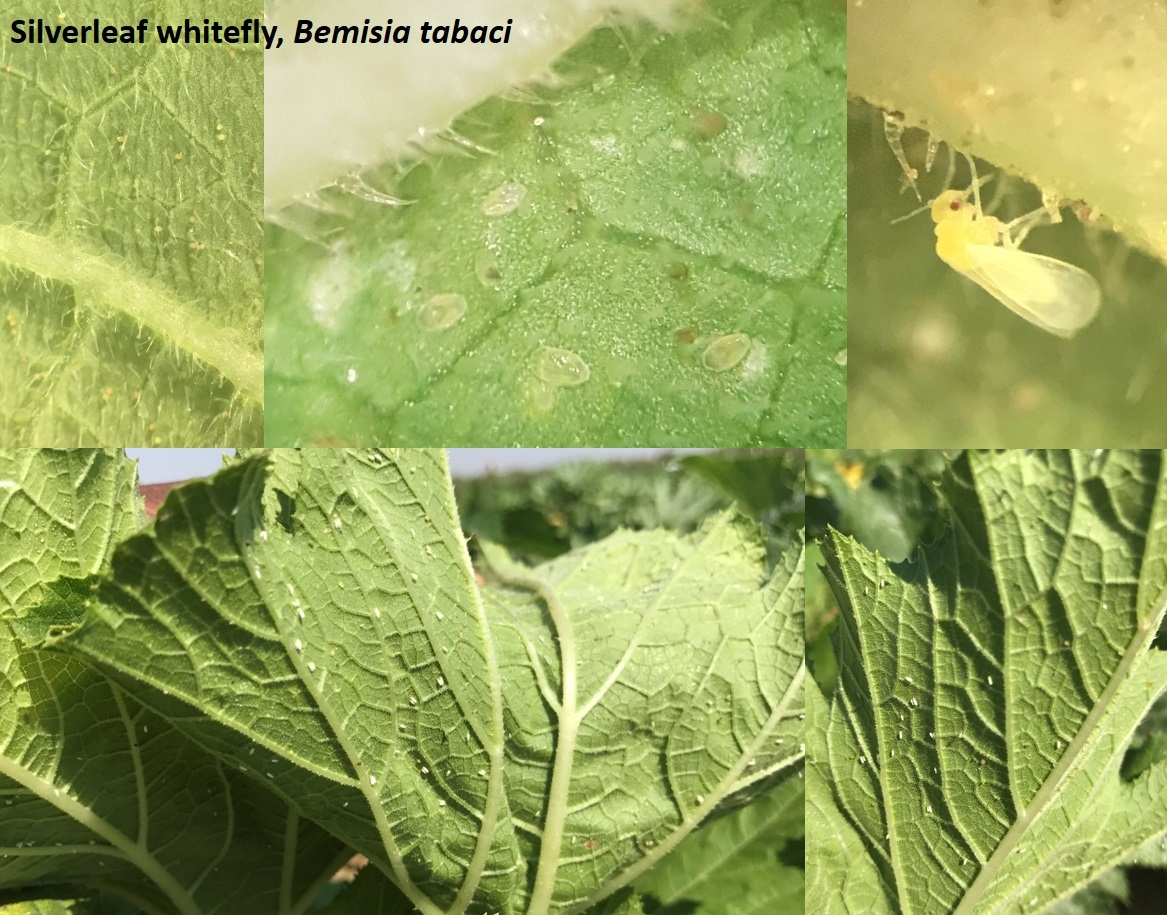Tobacco Whitefly: (892, 161, 1140, 386)
